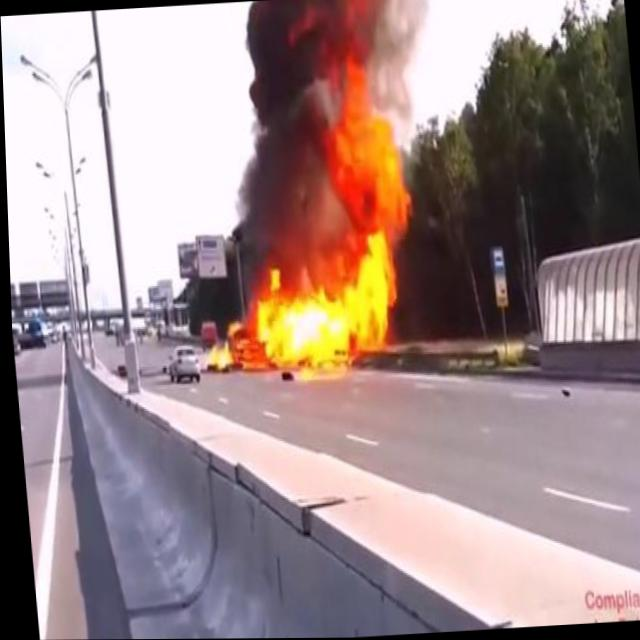fire: (301, 0, 416, 248), (237, 225, 403, 379), (202, 343, 235, 373)
